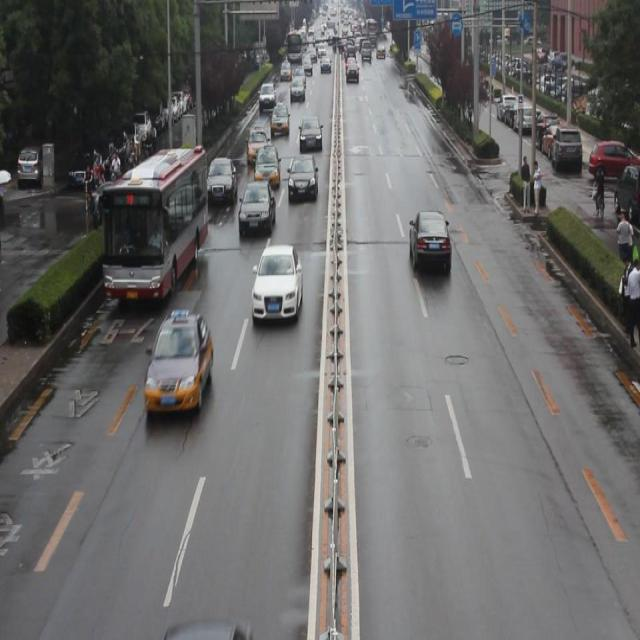car: (142, 302, 213, 410), (252, 240, 302, 318), (408, 206, 450, 270), (92, 180, 148, 227), (238, 177, 275, 232), (206, 150, 236, 200), (287, 149, 317, 198), (253, 139, 280, 183), (298, 111, 322, 145), (245, 124, 268, 159), (269, 97, 290, 132)
van: (102, 140, 207, 300)
